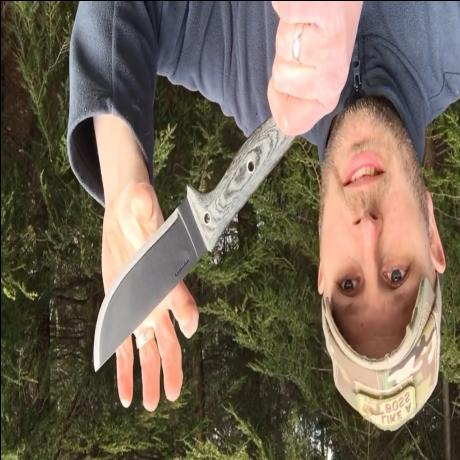1: (78, 0, 459, 430)
weapon: (88, 203, 201, 374)
